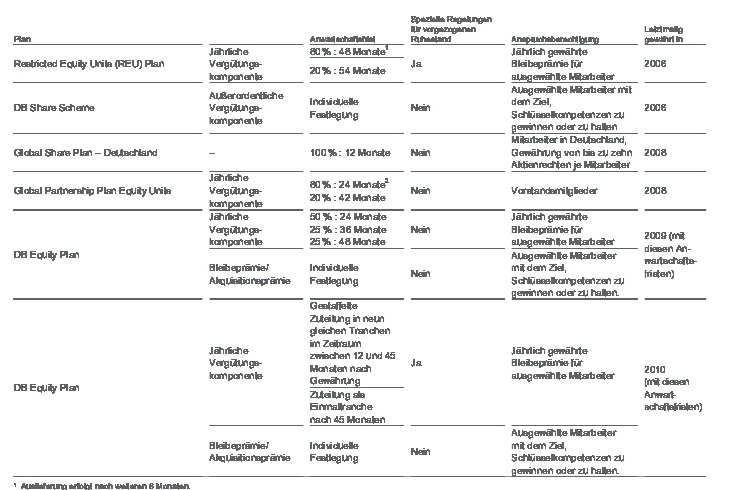table: (0, 0, 731, 490)
